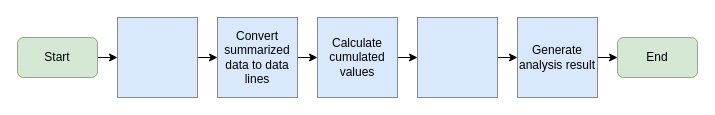
This 715x115 diagram has some shape labels left out. The shapes that lost their labels are listed below. From the top down, each one's centre as x and y in pixels, then its label:
point (157, 57): Summarize all data
point (457, 57): Interpolate missing values
